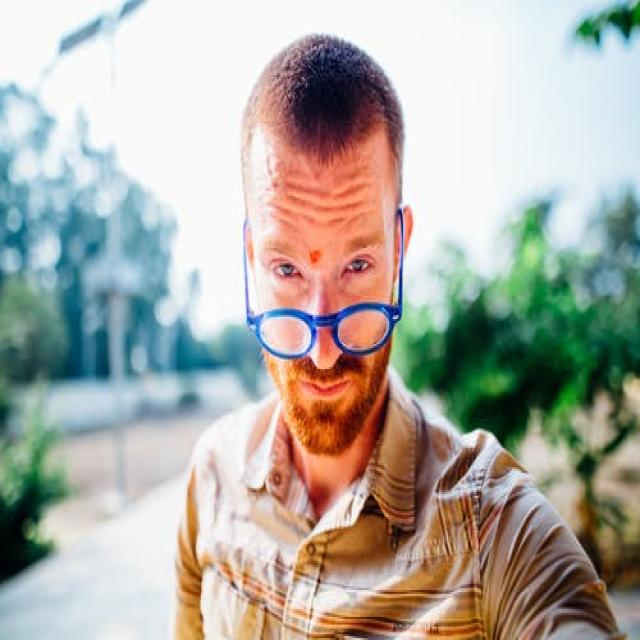Wrinkles: (287, 181, 330, 198), (267, 200, 301, 219), (304, 215, 345, 230), (342, 210, 378, 227), (315, 200, 369, 211), (335, 179, 369, 196), (271, 211, 296, 228), (288, 196, 314, 203)
